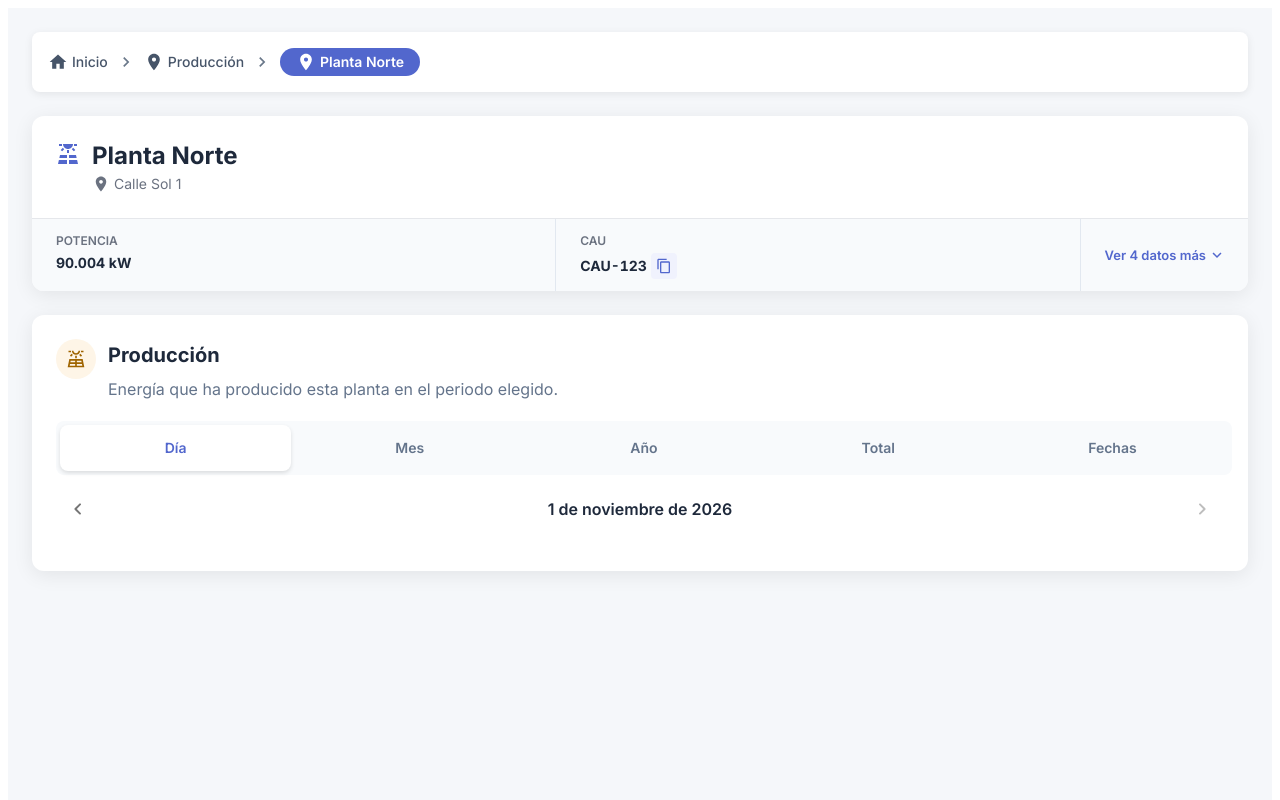
Test: PlantDetailPage › shows the CUPS as text for a caller the plant says may not
Click the button "Ver 4 datos más" at [1164, 255], box [1097,240,1232,270]
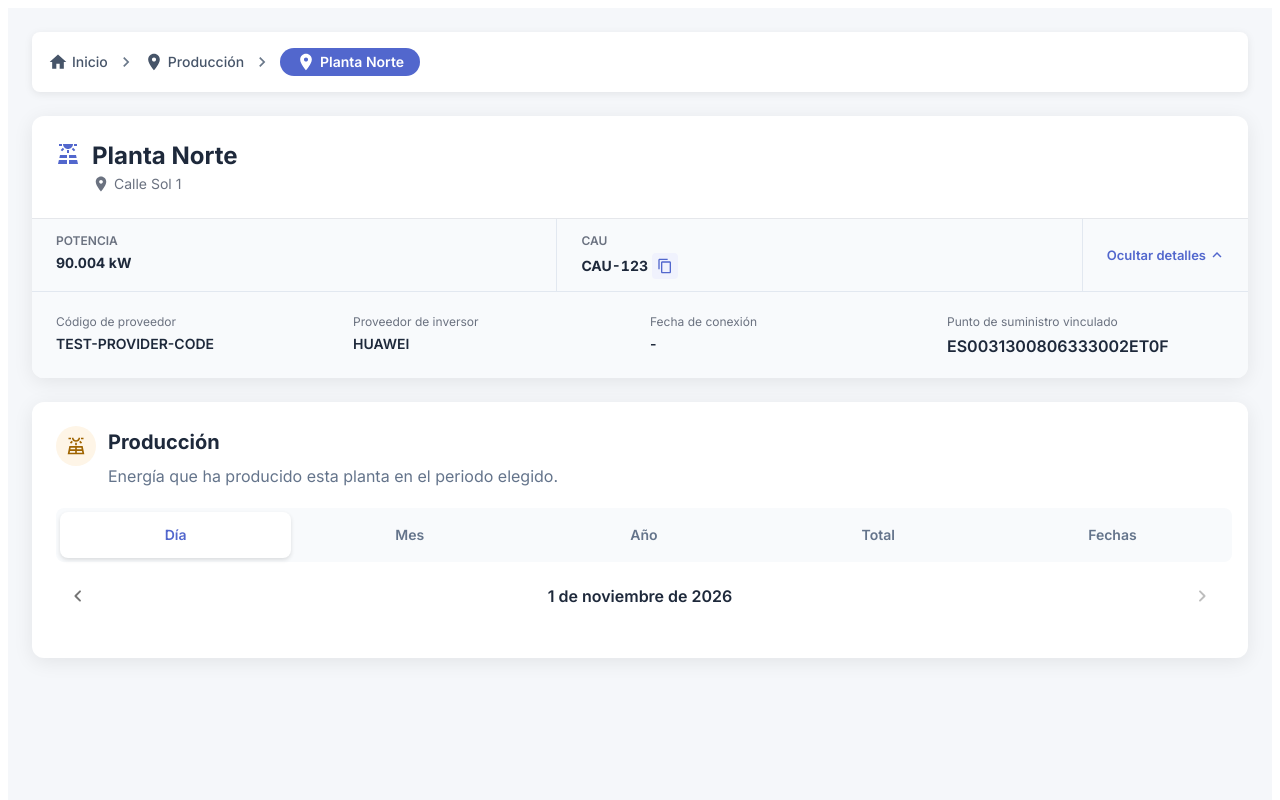
Result: the text "ES0031300806333002ET0F" is shown at [947,336,1169,356]
